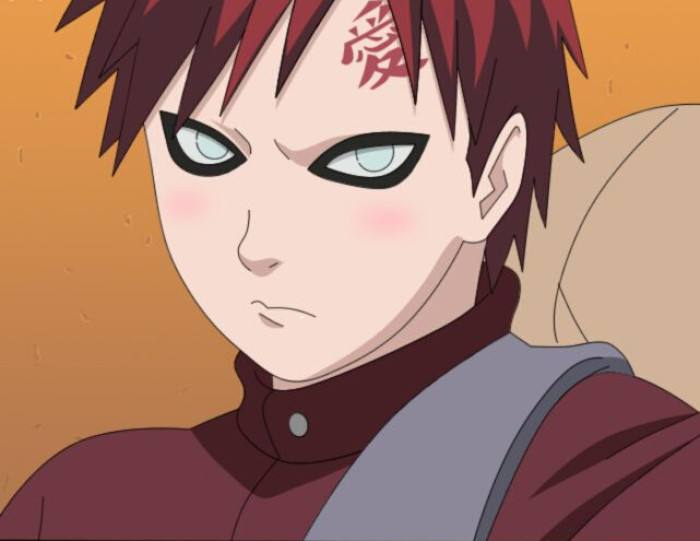gaara: (133, 2, 531, 385)
